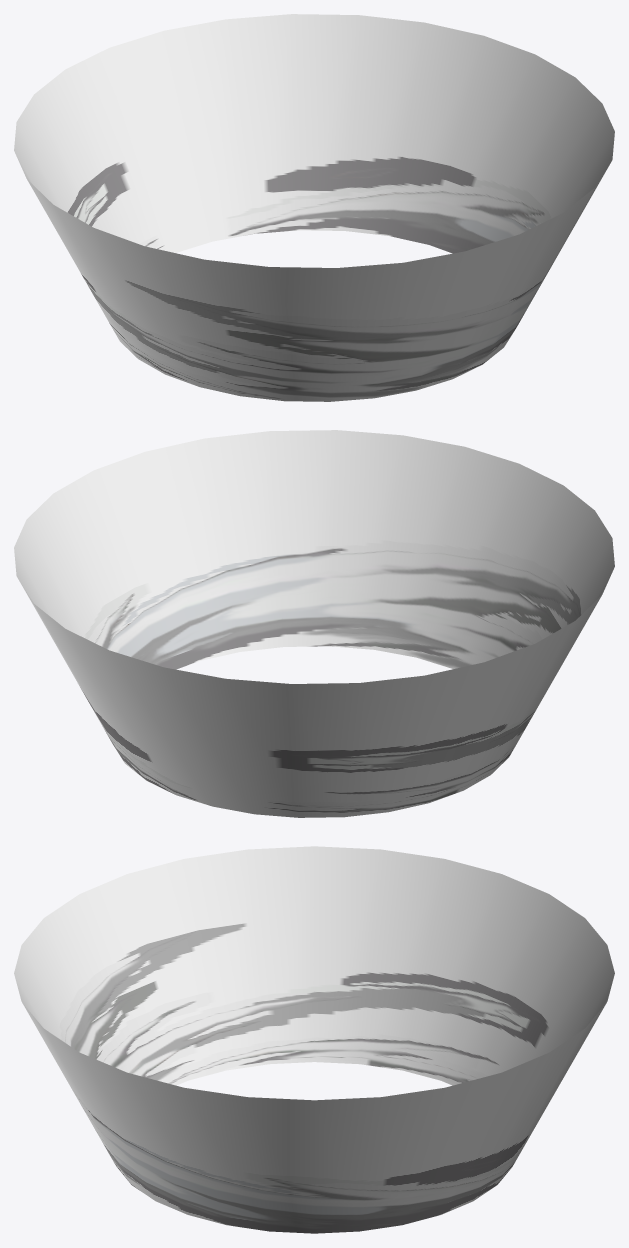
The model's file is Eff_Smoke_02.FBX.
3 views of the same model, one above another, from view 1: azimuth 30°, elevation 25°; view 2: azimuth 150°, elevation 25°; view 3: azimuth 270°, elevation 25° (orthographic).
Visible parts, largest first — view 1: Eff_Smoke_02; view 2: Eff_Smoke_02; view 3: Eff_Smoke_02.
Part boxes in pixels (left/top/right/bottom): Eff_Smoke_02: left=14, top=14, right=614, bottom=401; Eff_Smoke_02: left=14, top=430, right=614, bottom=817; Eff_Smoke_02: left=14, top=846, right=614, bottom=1233.
Bounding box in the file's own units: 300 × 96.14 × 300.
1 material, 1 textured.
